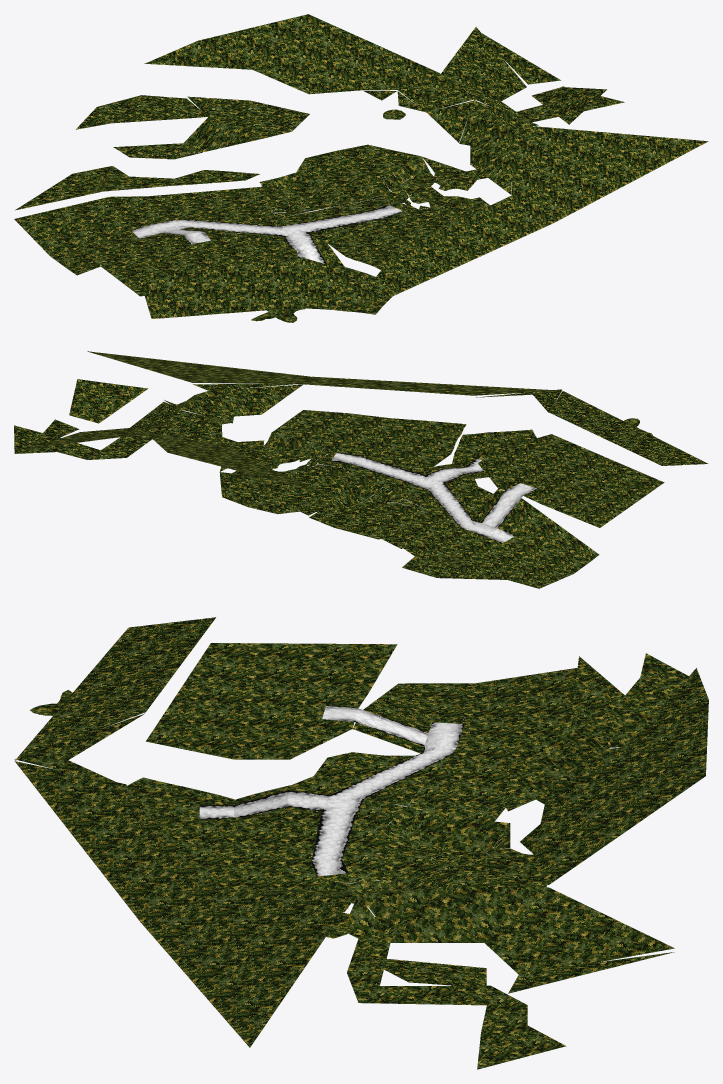
The model's file is kokiri0-groundQ.obj.
3 views of the same model, one above another, from view 1: azimuth 30°, elevation 25°; view 2: azimuth 150°, elevation 25°; view 3: azimuth 270°, elevation 25° (orthographic). The views are drawn at different scales.
Visible parts, largest first — view 1: kokiri0-ground-retopo; view 2: kokiri0-ground-retopo; view 3: kokiri0-ground-retopo.
Part boxes in pixels (x1,y1,x2,y2): kokiri0-ground-retopo: (14, 14, 708, 322); kokiri0-ground-retopo: (14, 351, 708, 588); kokiri0-ground-retopo: (14, 617, 708, 1069).
Size of the model in its own units: 4656 by 751 by 3244.
